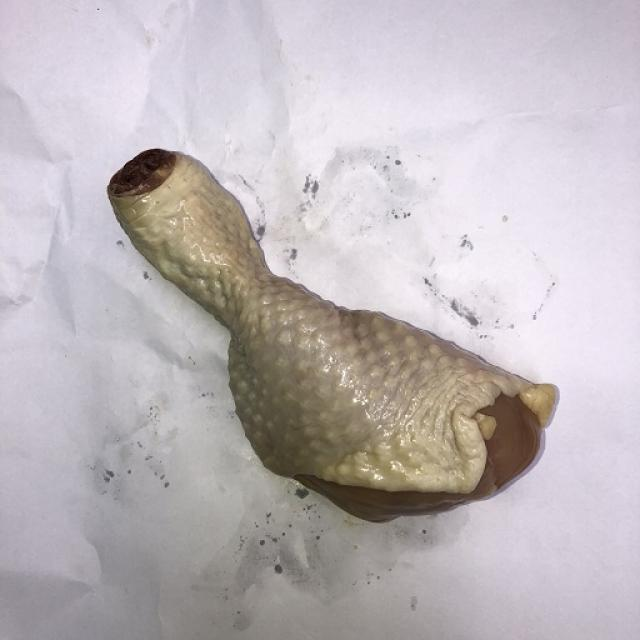chicken: (83, 124, 570, 552)
